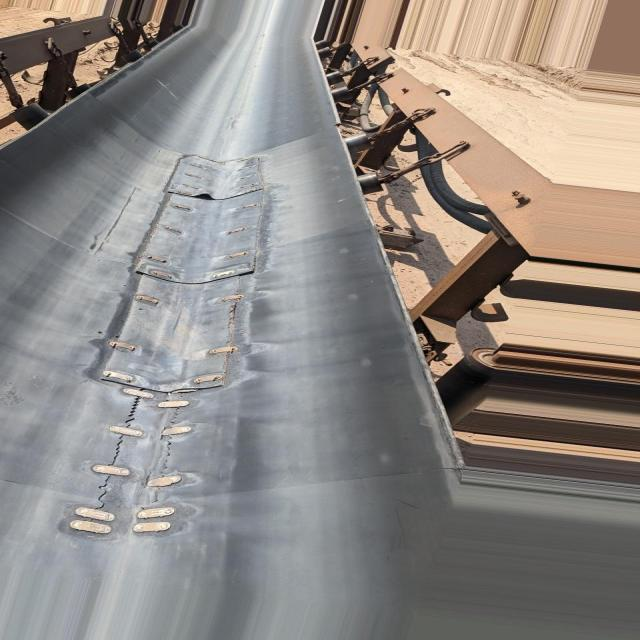patch work: (84, 140, 264, 535)
